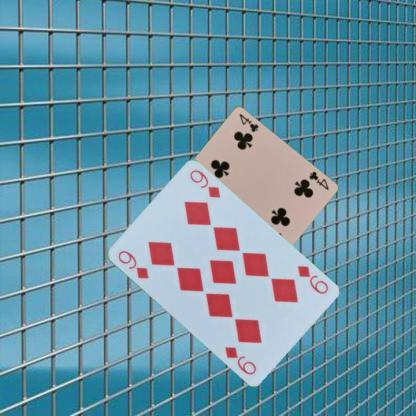4c: (306, 168, 330, 192)
9d: (294, 262, 329, 296), (115, 247, 150, 280)
